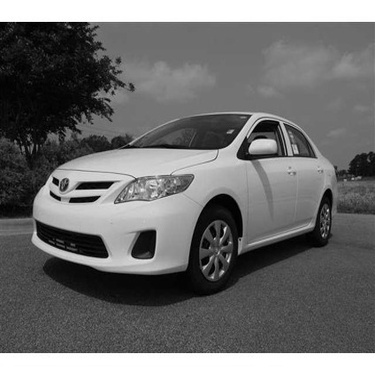car: (26, 103, 353, 284)
